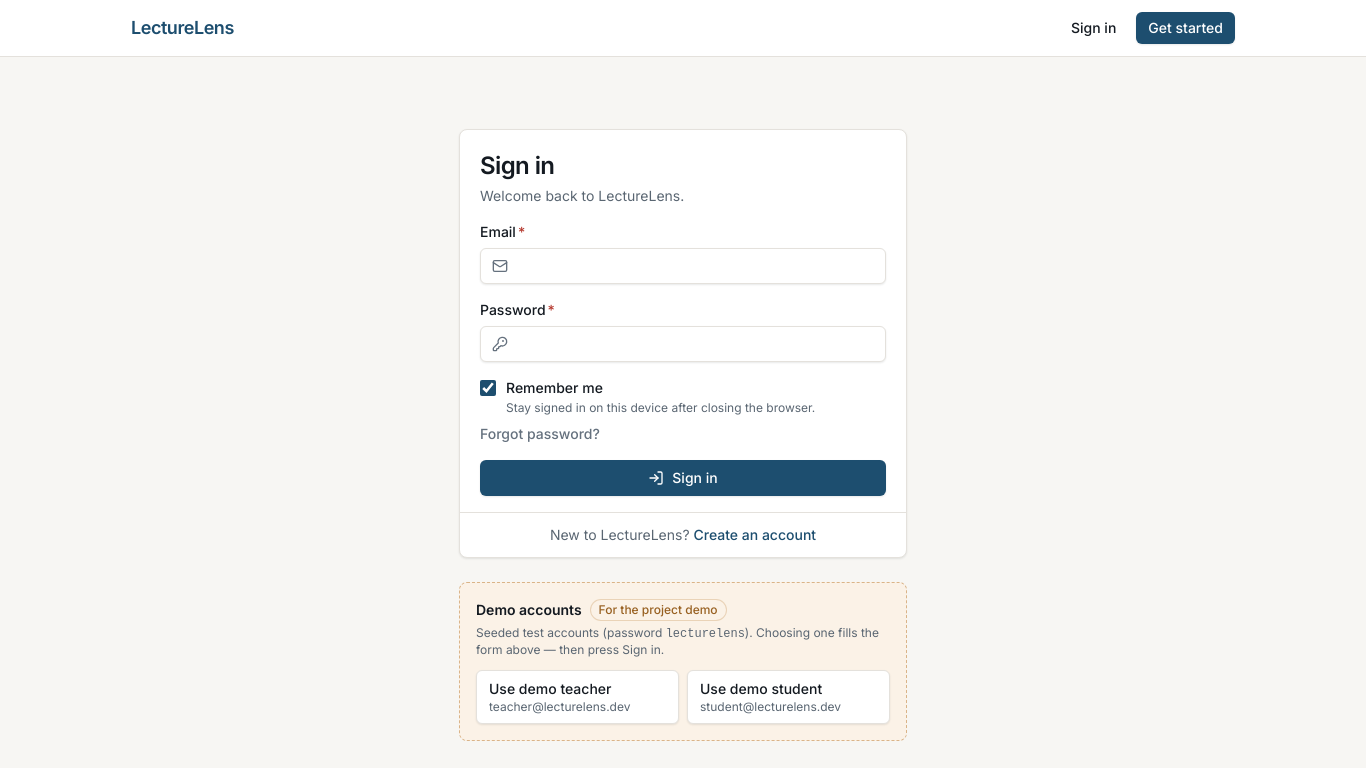
Test case: login › demo student → /app/dashboard with the student sidebar
Click the button "Use demo student student@lecturelens.dev" at (788,697), box 687,670 -> 890,724
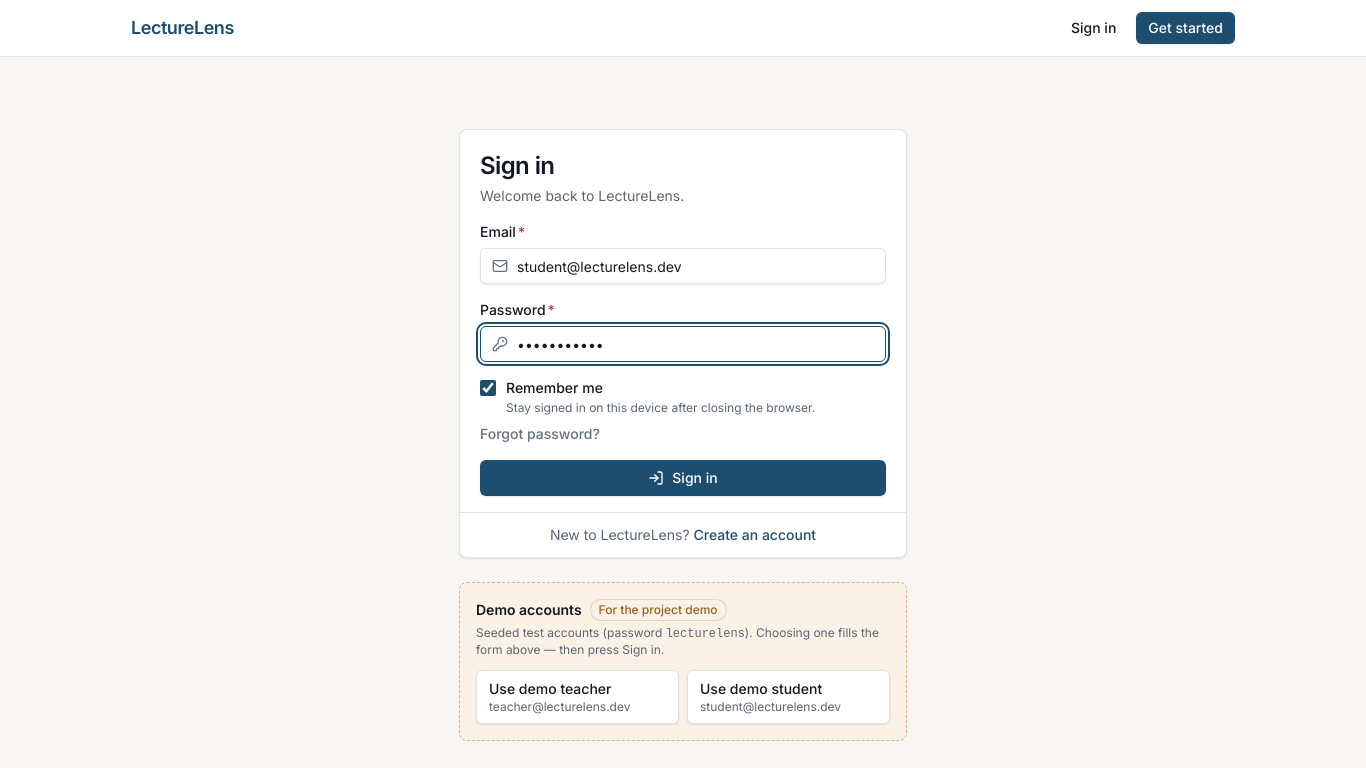
Click the button "Sign in" at (683,478), box 480,460 -> 886,496
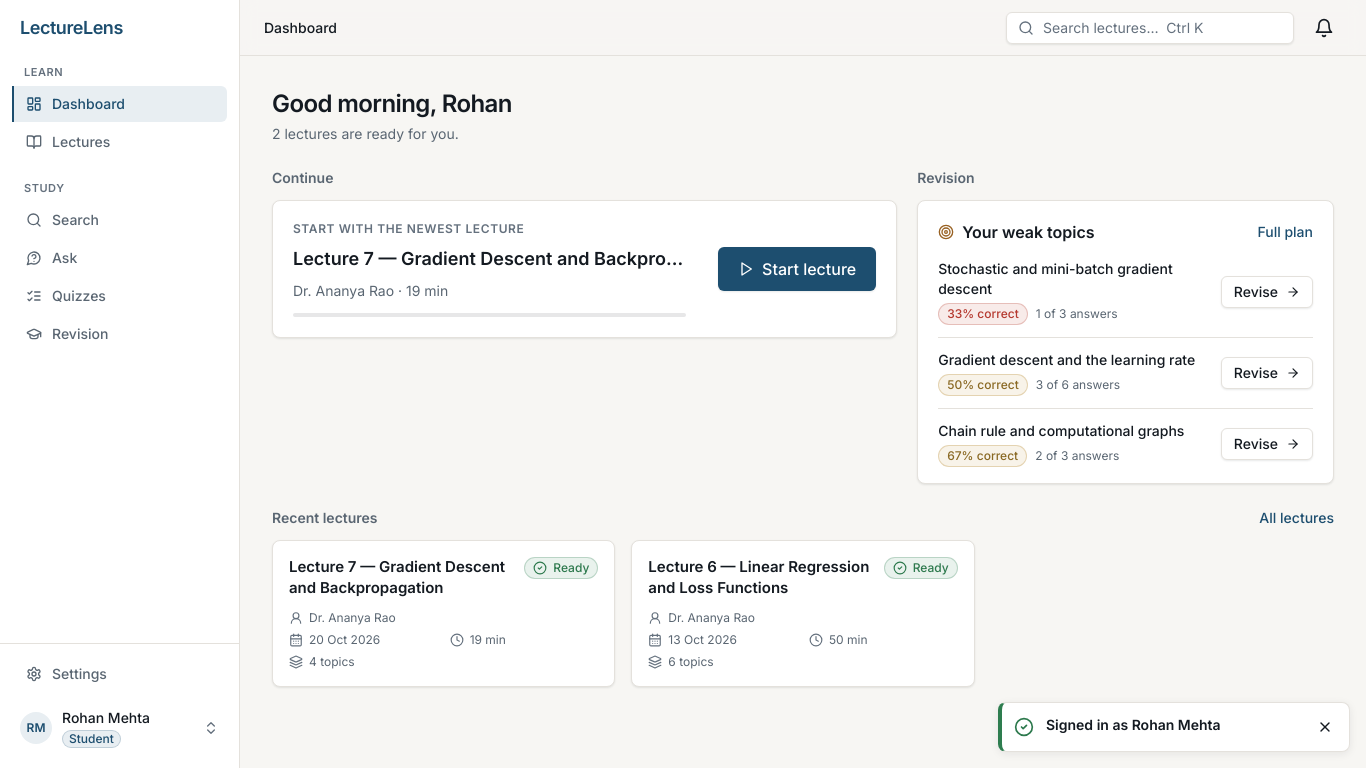
Expected: the heading "Good morning, Rohan" is shown, 272,89 -> 512,118
